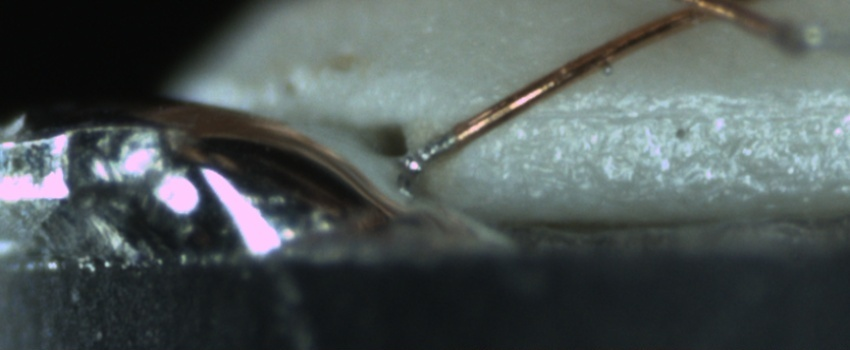CL: (660, 1, 759, 31)
DL: (512, 78, 850, 142)
TS: (403, 130, 456, 177)
TTCW: (401, 106, 499, 171)
